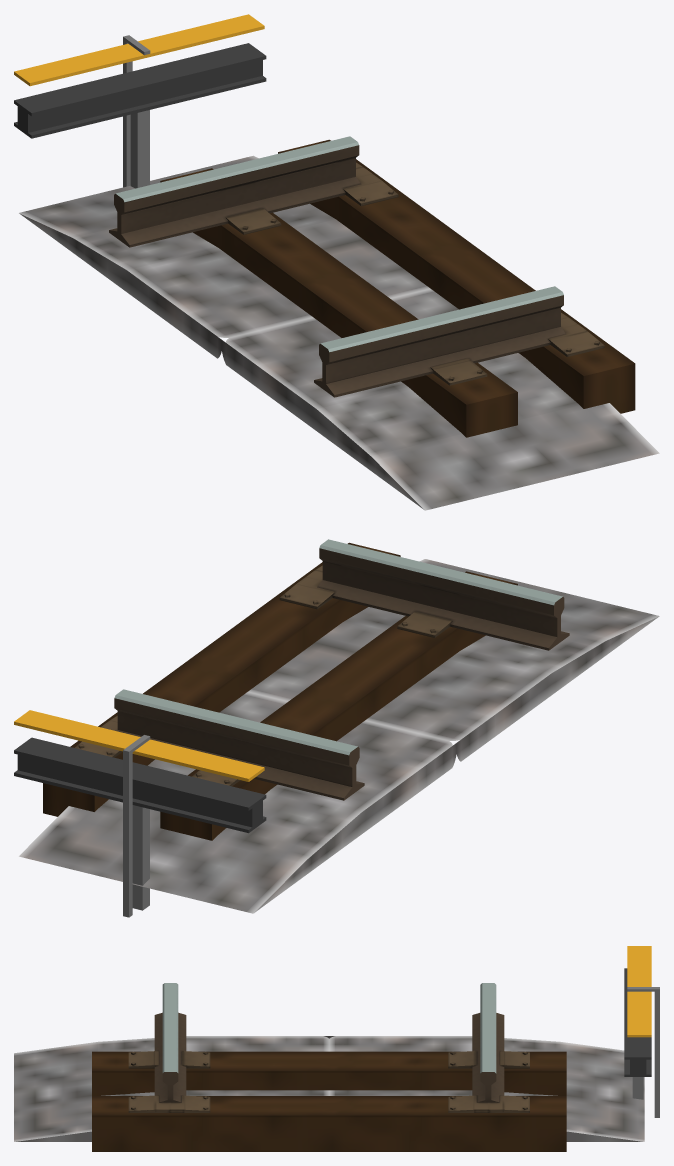
Rendered from spsf_3rdrail_ballast.obj.
3 views of the same model, one above another, from view 1: azimuth 30°, elevation 25°; view 2: azimuth 150°, elevation 25°; view 3: azimuth 270°, elevation 25° (orthographic). The views are drawn at different scales.
Visible parts, largest first — view 1: RAIL_BASE_Cube.001, RAIL_BASE.006_RAIL_BASE.004, RAIL_RIGHT_Cube.010, RAIL_LEFT_Cube.002, RAIL_BASE.002_RAIL_BASE.007, RAIL_BASE.003_RAIL_BASE.006, RAIL_BASE.004_RAIL_BASE.008, RAIL_BASE.005_Cube.003; view 2: RAIL_BASE_Cube.001, RAIL_BASE.006_RAIL_BASE.004, RAIL_LEFT_Cube.002, RAIL_RIGHT_Cube.010, RAIL_BASE.002_RAIL_BASE.007, RAIL_BASE.003_RAIL_BASE.006, RAIL_BASE.004_RAIL_BASE.008, RAIL_BASE.005_Cube.003; view 3: RAIL_BASE.003_RAIL_BASE.006, RAIL_BASE_Cube.001, RAIL_BASE.004_RAIL_BASE.008, RAIL_BASE.002_RAIL_BASE.007, RAIL_BASE.006_RAIL_BASE.004, RAIL_BASE.005_Cube.003, RAIL_RIGHT_Cube.010, RAIL_LEFT_Cube.002.
Part boxes in pixels (x1,y1,x2,y2): RAIL_BASE_Cube.001: (19,155,659,510); RAIL_BASE.006_RAIL_BASE.004: (14,14,266,188); RAIL_RIGHT_Cube.010: (109,136,361,247); RAIL_LEFT_Cube.002: (314,286,565,397); RAIL_BASE.002_RAIL_BASE.007: (278,139,635,413); RAIL_BASE.003_RAIL_BASE.006: (160,152,583,437); RAIL_BASE.004_RAIL_BASE.008: (161,168,517,437); RAIL_BASE.005_Cube.003: (225,162,604,385); RAIL_BASE_Cube.001: (19,559,659,913); RAIL_BASE.006_RAIL_BASE.004: (14,710,266,917); RAIL_LEFT_Cube.002: (317,539,569,650); RAIL_RIGHT_Cube.010: (114,689,364,800); RAIL_BASE.002_RAIL_BASE.007: (43,542,399,816); RAIL_BASE.003_RAIL_BASE.006: (94,555,517,840); RAIL_BASE.004_RAIL_BASE.008: (160,571,517,840); RAIL_BASE.005_Cube.003: (75,565,452,786); RAIL_BASE.003_RAIL_BASE.006: (92,1071,566,1151); RAIL_BASE_Cube.001: (14,1036,644,1141); RAIL_BASE.004_RAIL_BASE.008: (92,1051,566,1071); RAIL_BASE.002_RAIL_BASE.007: (92,1096,566,1115); RAIL_BASE.006_RAIL_BASE.004: (624,946,659,1117); RAIL_BASE.005_Cube.003: (128,1051,529,1112); RAIL_RIGHT_Cube.010: (472,983,504,1102); RAIL_LEFT_Cube.002: (154,983,186,1102).
Bounding box in the file's own units: 1.11 × 0.6752 × 3.07.
2 materials, 2 textured.
